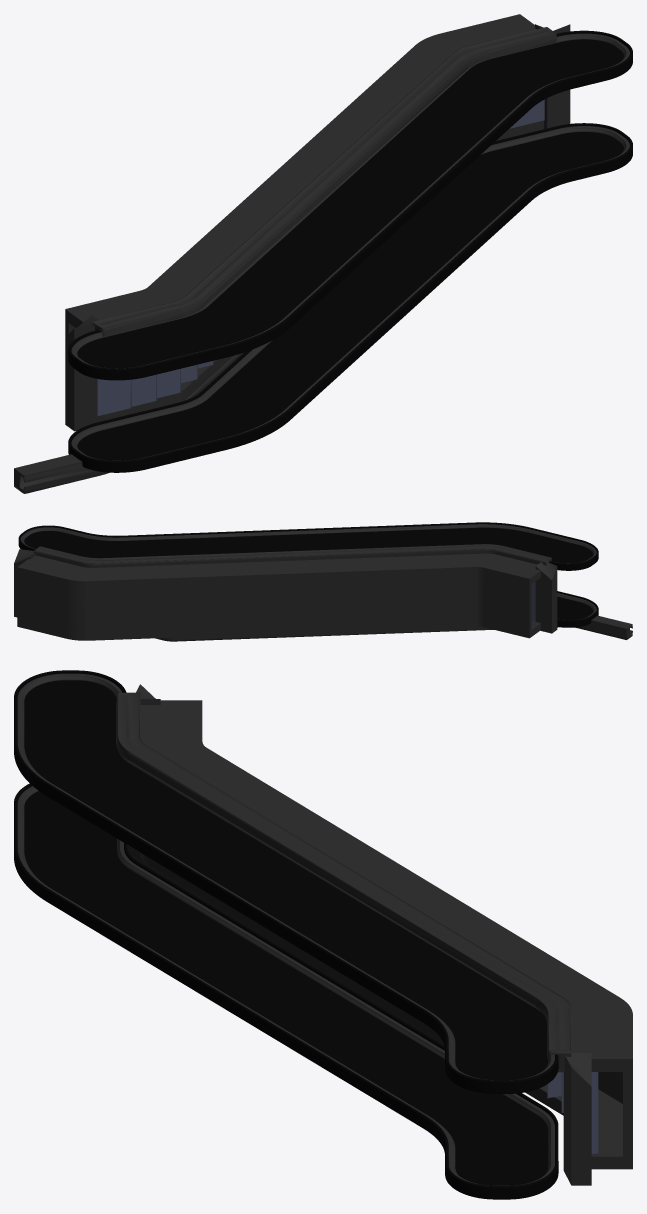
The picture shows the model from 3 angles, top to bottom: view 1: azimuth 30°, elevation 25°; view 2: azimuth 150°, elevation 25°; view 3: azimuth 270°, elevation 25°; orthographic projection. The views are drawn at different scales.
Parts seen in each view (by area): view 1: Line16, Line16_inst_2, Line21, Line13, Line15_inst_2, Line15, Line14_inst_2, Line14, Line13_inst_2, Box60, Box36_inst_24, Box283 (+1 smaller); view 2: Line21, Line16, Line13, Line14, Line13_inst_2, Line15, Box60, Line16_inst_2, Line15_inst_2, Box283, Line14_inst_2, Box36_inst_24; view 3: Line16, Line16_inst_2, Line21, Line13, Line15_inst_2, Line15, Line14_inst_2, Line14, Box283, Line13_inst_2.
Boxes of the visible parts, bbox=[...] form: Line16: bbox=[77, 39, 623, 368]; Line16_inst_2: bbox=[77, 132, 623, 460]; Line21: bbox=[65, 14, 543, 420]; Line13: bbox=[92, 27, 557, 336]; Line15_inst_2: bbox=[68, 123, 632, 472]; Line15: bbox=[68, 30, 632, 380]; Line14_inst_2: bbox=[71, 126, 629, 460]; Line14: bbox=[71, 33, 629, 368]; Line13_inst_2: bbox=[14, 352, 243, 493]; Box60: bbox=[65, 315, 103, 431]; Box36_inst_24: bbox=[97, 379, 131, 415]; Box283: bbox=[535, 24, 570, 128]; Line21: bbox=[17, 553, 540, 640]; Line16: bbox=[24, 527, 592, 563]; Line13: bbox=[33, 544, 551, 567]; Line14: bbox=[20, 524, 596, 563]; Line13_inst_2: bbox=[155, 615, 632, 641]; Line15: bbox=[18, 522, 598, 570]; Box60: bbox=[535, 562, 557, 633]; Line16_inst_2: bbox=[557, 596, 592, 620]; Line15_inst_2: bbox=[557, 591, 598, 627]; Box283: bbox=[14, 549, 35, 617]; Line14_inst_2: bbox=[557, 593, 596, 620]; Box36_inst_24: bbox=[531, 581, 535, 621]; Line16: bbox=[24, 680, 548, 1080]; Line16_inst_2: bbox=[24, 791, 548, 1185]; Line21: bbox=[140, 700, 632, 1169]; Line13: bbox=[116, 692, 571, 1072]; Line15_inst_2: bbox=[14, 783, 558, 1199]; Line15: bbox=[14, 670, 558, 1093]; Line14_inst_2: bbox=[17, 786, 554, 1185]; Line14: bbox=[17, 673, 554, 1080]; Box283: bbox=[563, 1053, 591, 1185]; Line13_inst_2: bbox=[127, 845, 444, 1046].
Bounding box in the file's own units: 9009 × 1300 × 5315.
